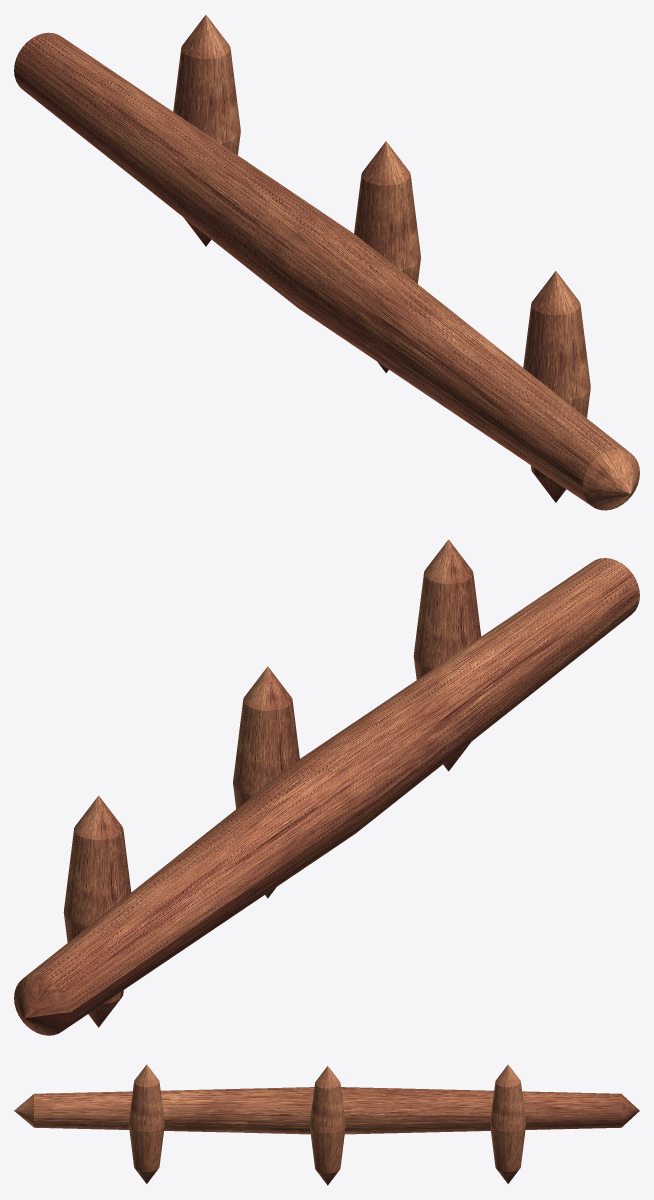
File: hanger.gltf
3 views of the same model, one above another, from view 1: azimuth 30°, elevation 25°; view 2: azimuth 150°, elevation 25°; view 3: azimuth 270°, elevation 25° (orthographic). The views are drawn at different scales.
Parts seen in each view (by area): view 1: 구체.003, 구체, 구체.002, 구체.001; view 2: 구체.003, 구체.002, 구체, 구체.001; view 3: 구체.003, 구체.001, 구체, 구체.002.
Part boxes in pixels (box(x1,y1,x2,y2)): 구체.003: box(14, 32, 639, 510); 구체: box(523, 271, 590, 502); 구체.002: box(173, 15, 240, 246); 구체.001: box(354, 141, 420, 372); 구체.003: box(14, 558, 639, 1035); 구체.002: box(63, 795, 131, 1027); 구체: box(413, 539, 481, 771); 구체.001: box(233, 666, 299, 898); 구체.003: box(14, 1087, 639, 1134); 구체.001: box(309, 1066, 345, 1185); 구체: box(128, 1064, 164, 1183); 구체.002: box(490, 1064, 526, 1183).
Size of the model in its own units: 1.29 by 2.2 by 10.4.
Materials: 1 (1 with a texture image).
